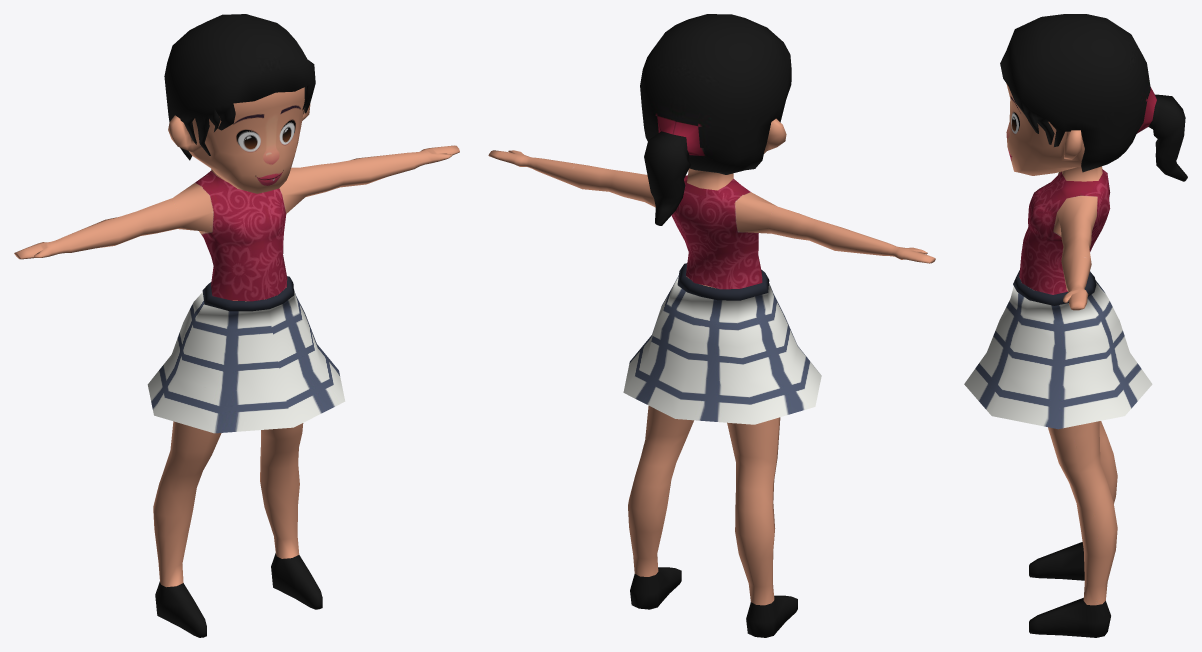
File: 36 no bones.fbx
The picture shows the model from 3 angles, left to right: view 1: azimuth 30°, elevation 25°; view 2: azimuth 150°, elevation 25°; view 3: azimuth 270°, elevation 25°; orthographic projection.
Visible parts, largest first — view 1: Cube; view 2: Cube; view 3: Cube.
Boxes of the visible parts, x1,y1,x2,y2 form: Cube: (14, 14, 459, 637); Cube: (488, 14, 935, 637); Cube: (964, 14, 1187, 637).
Bounding box in the file's own units: 328 × 417 × 145.
Materials: 3 (3 with a texture image).
